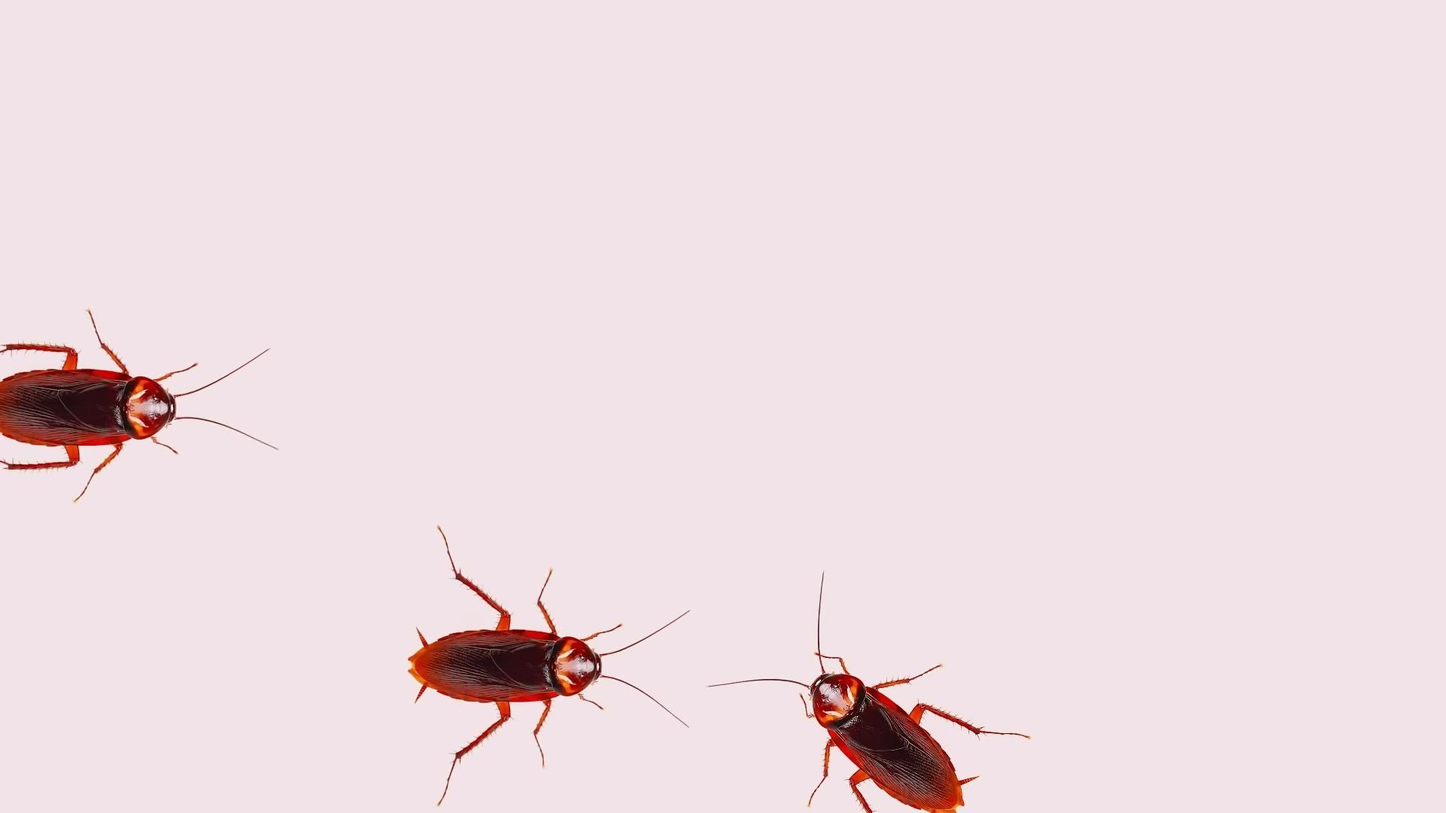cockroach: (397, 515, 688, 795), (709, 596, 1033, 813), (3, 312, 280, 529)
